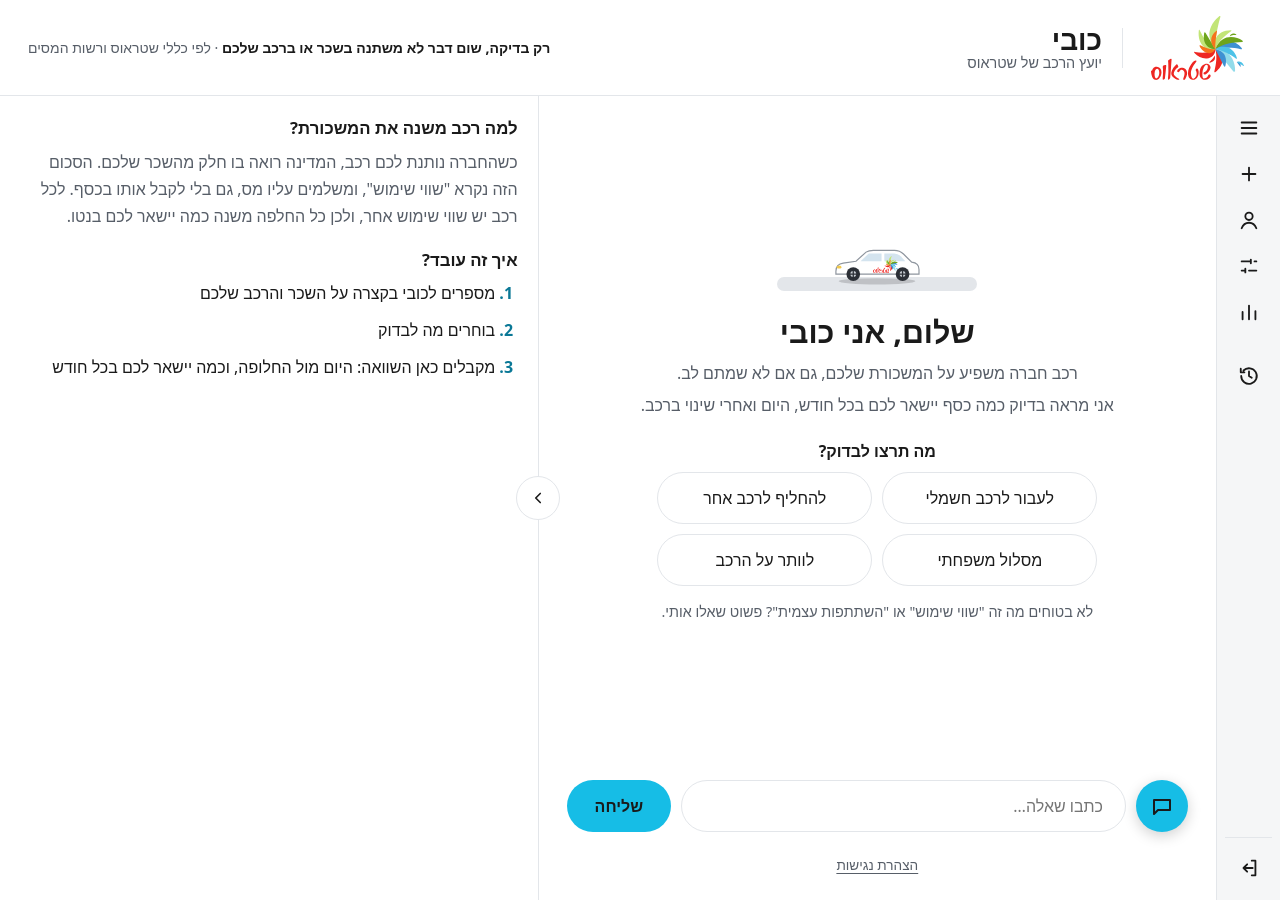
Test: EmployeeScreen › keeps the part of the answer already written when an error arrives mid-answer
The image size is (1280, 900).
Step 1. Type "שלום" into the text box named "הודעה" → (904, 806), box [681,780,1126,832]
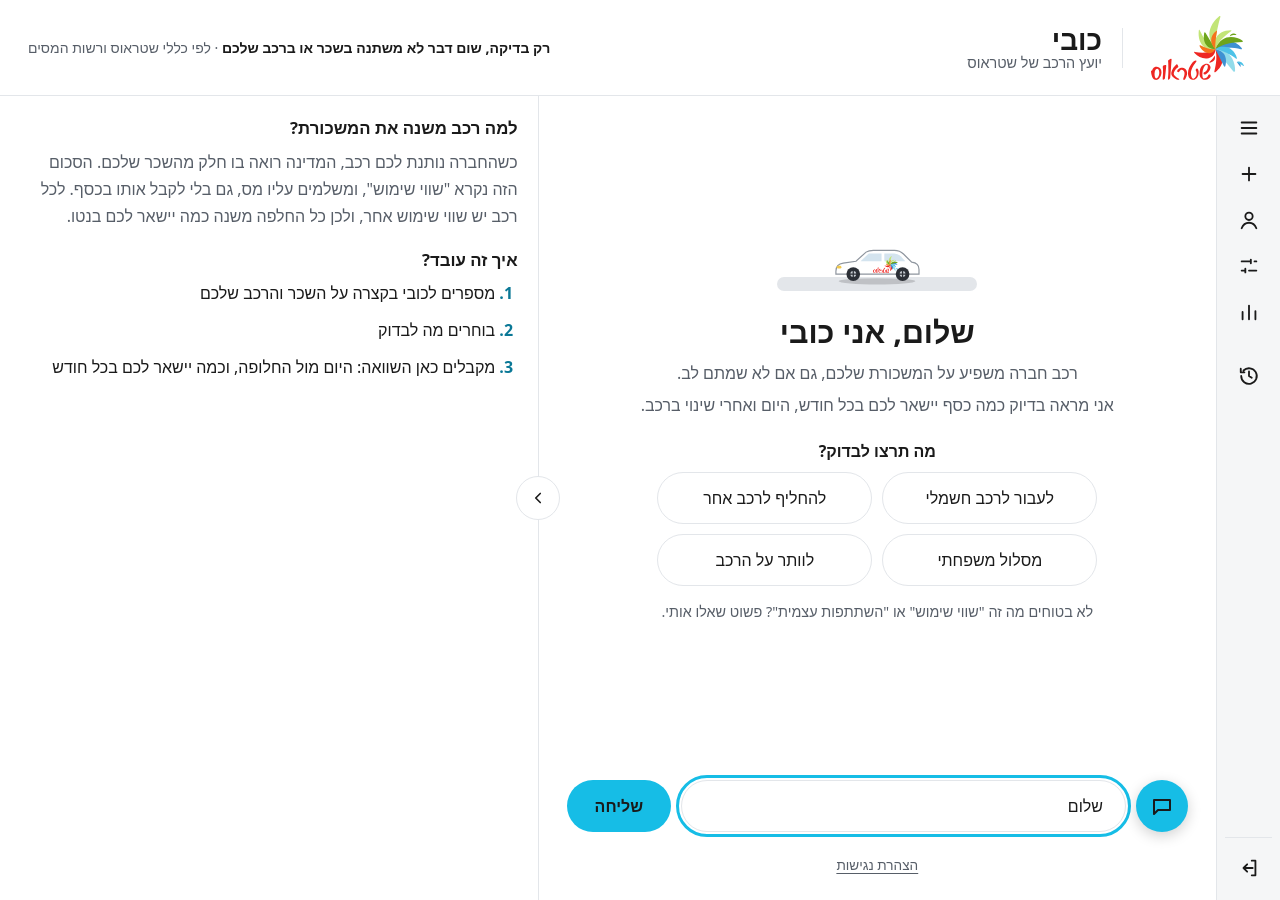
Step 2. Click the button "שליחה" → (619, 806), box [567,780,671,832]
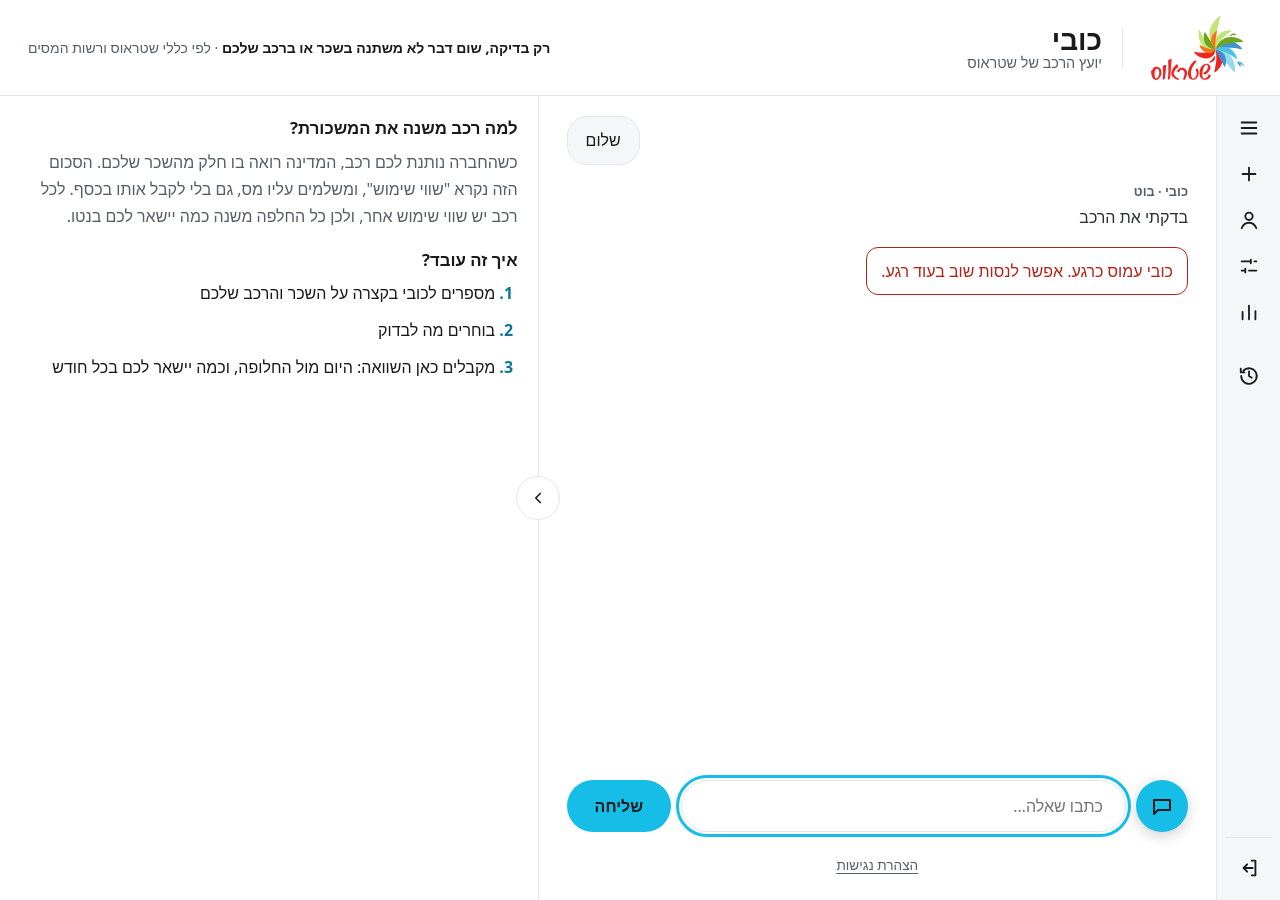
Expected: the list item "כובי עמוס כרגע. אפשר לנסות שוב בעוד רגע." is shown, [866,247,1188,296]
Expected: the text "בדקתי את הרכב" is shown, [1079,204,1188,231]
